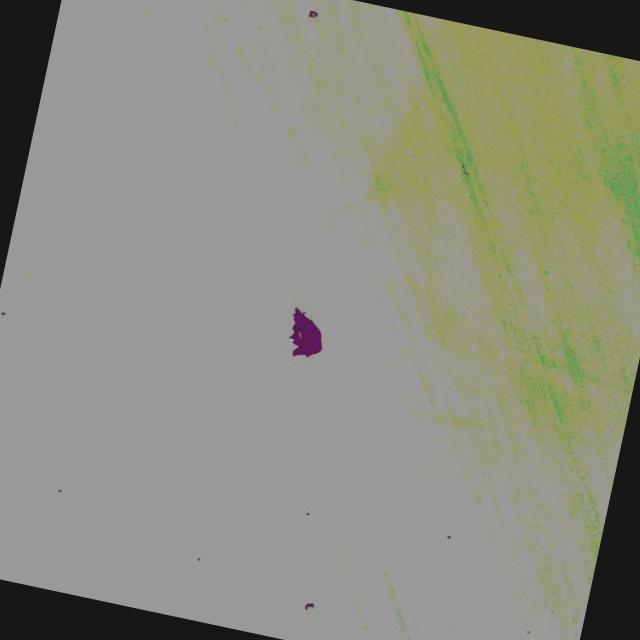crack: (283, 316, 314, 350)
